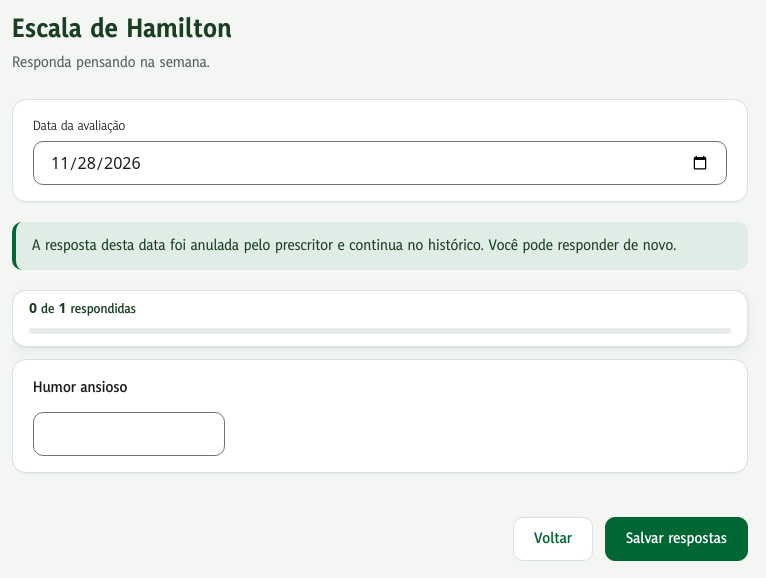
Test: Escala › dia so com resposta anulada abre em branco e salvar envia uma resposta nova
This screenshot has width=766, height=578.
Expected: the text "foi anulada pelo prescritor e continua no histórico" is shown, [32,235,676,256]
Expected: the date field labelled "Data da avaliação" is enabled, [33,141,727,185]
Type "1" into the number field labelled "Humor ansioso" at (129, 434), box [33,412,225,456]
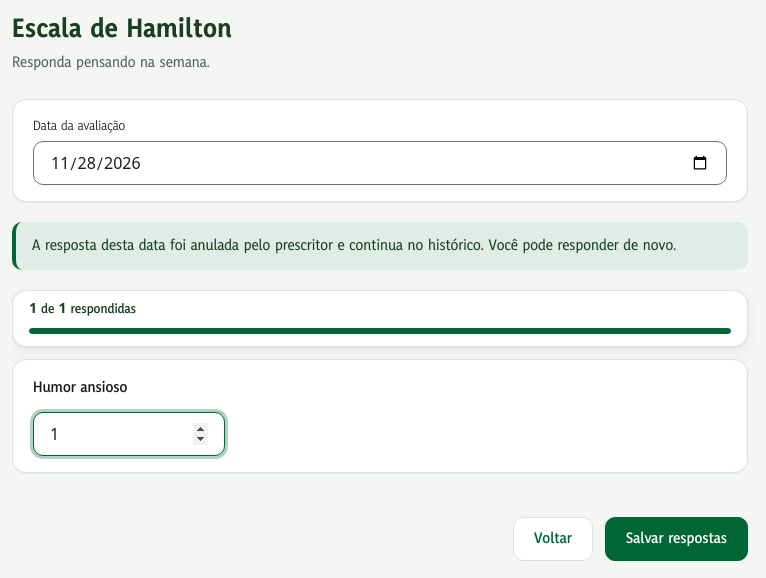
Click the button "Salvar respostas" at (676, 539), box [605,517,748,561]
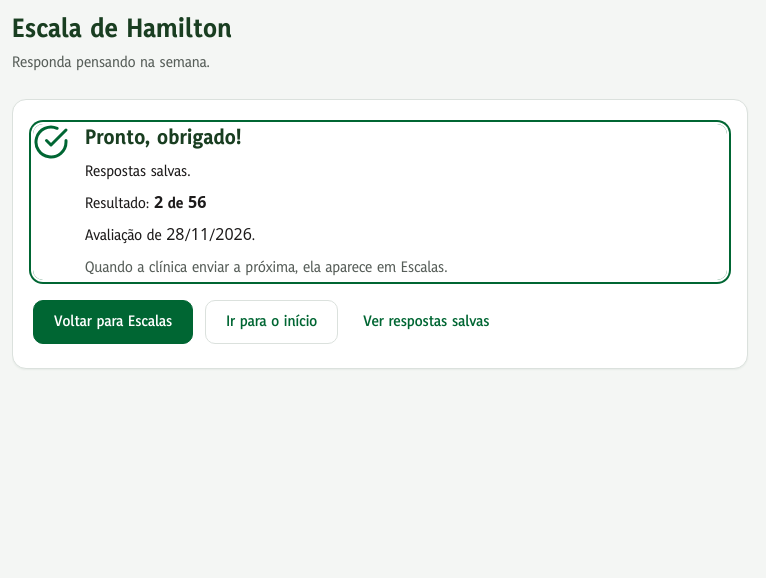
Expected: the text "Respostas salvas." is shown, [85,160,190,182]
